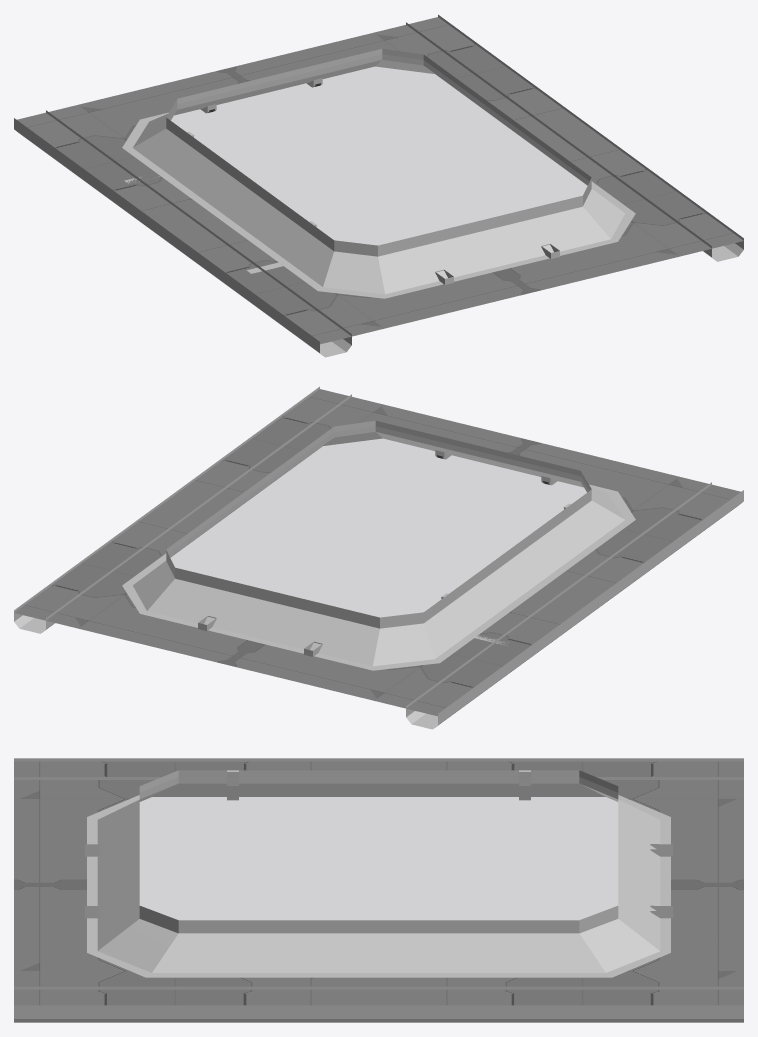
Rendered from SM_Ceiling_8x10_A.fbx.
The picture shows the model from 3 angles, top to bottom: view 1: azimuth 30°, elevation 25°; view 2: azimuth 150°, elevation 25°; view 3: azimuth 270°, elevation 25°; orthographic projection. The views are drawn at different scales.
Visible parts, largest first — view 1: SM_Ceiling_8x10_A; view 2: SM_Ceiling_8x10_A; view 3: SM_Ceiling_8x10_A.
Boxes of the visible parts, x1,y1,x2,y2 form: SM_Ceiling_8x10_A: [14, 14, 743, 357]; SM_Ceiling_8x10_A: [14, 386, 743, 729]; SM_Ceiling_8x10_A: [14, 758, 743, 1022].
Size of the model in its own units: 800 by 86.12 by 1000.
